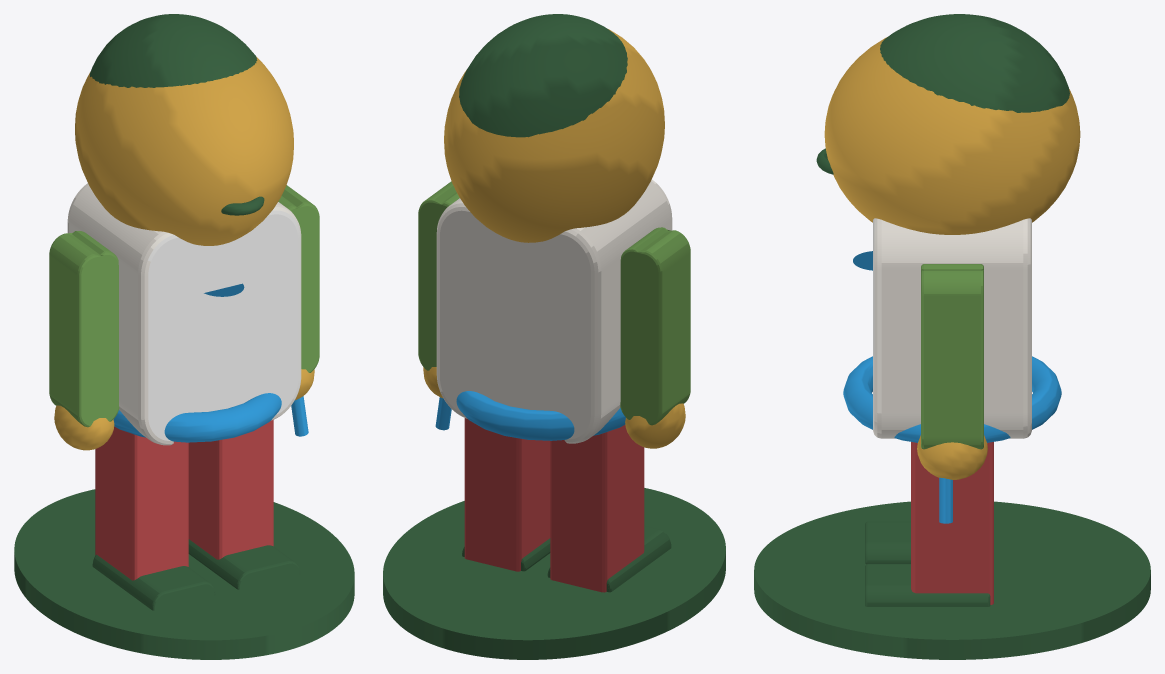
File: 1312_中国古代寓言_匠石.glb
The picture shows the model from 3 angles, left to right: view 1: azimuth 30°, elevation 25°; view 2: azimuth 150°, elevation 25°; view 3: azimuth 270°, elevation 25°; orthographic projection. The views are drawn at different scales.
Visible parts, largest first — view 1: card_1312; view 2: card_1312; view 3: card_1312.
Boxes of the visible parts, x1,y1,x2,y2 form: card_1312: (14,14,354,659); card_1312: (383,14,725,659); card_1312: (754,14,1150,659).
Size of the model in its own units: 0.519 by 1 by 0.622.
